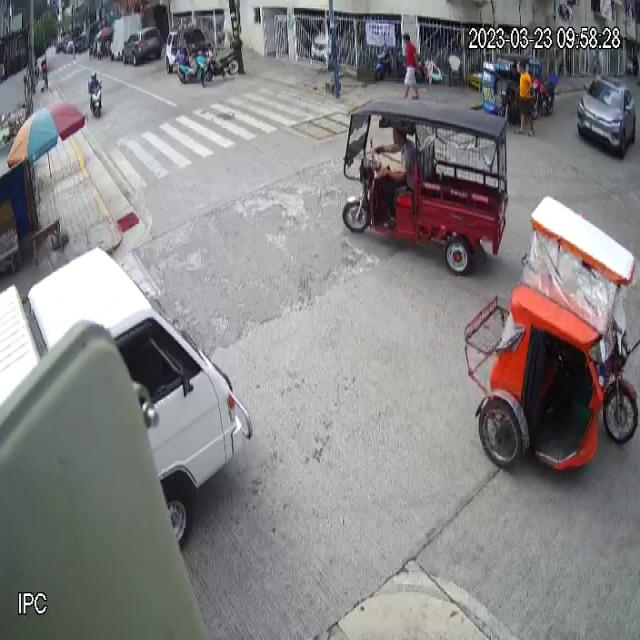Car: (577, 73, 636, 160)
Motorcycle: (88, 79, 103, 120)
Tricycle: (463, 194, 640, 472), (482, 52, 529, 115)
